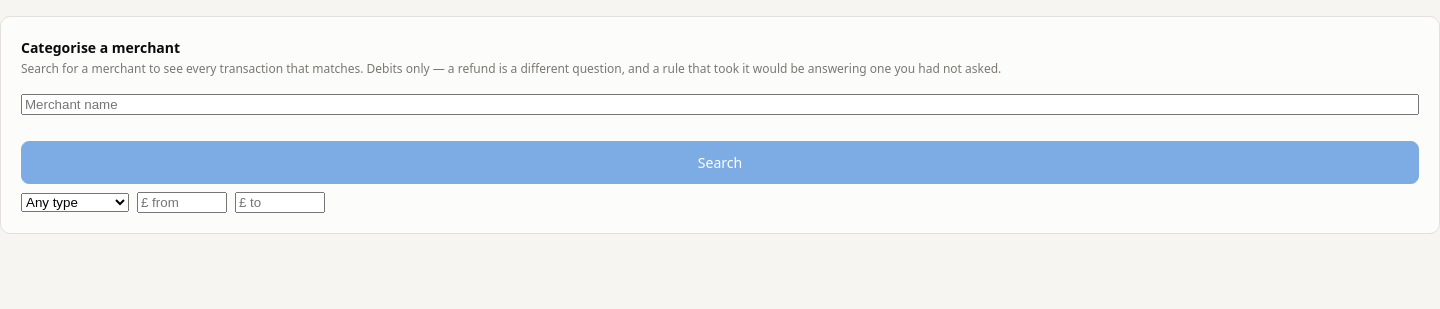
it: searching › reports a failure instead of leaving the last results on screen
Type "somemart" into the field labelled "Merchant" at point(720, 104), box [21,94,1419,115]
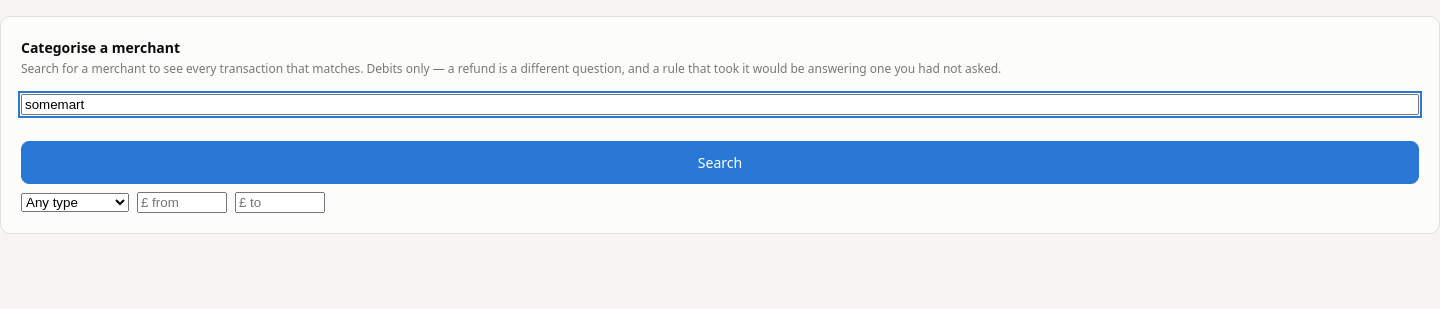
Click the button "Search" at point(720, 162), box [21,141,1419,184]
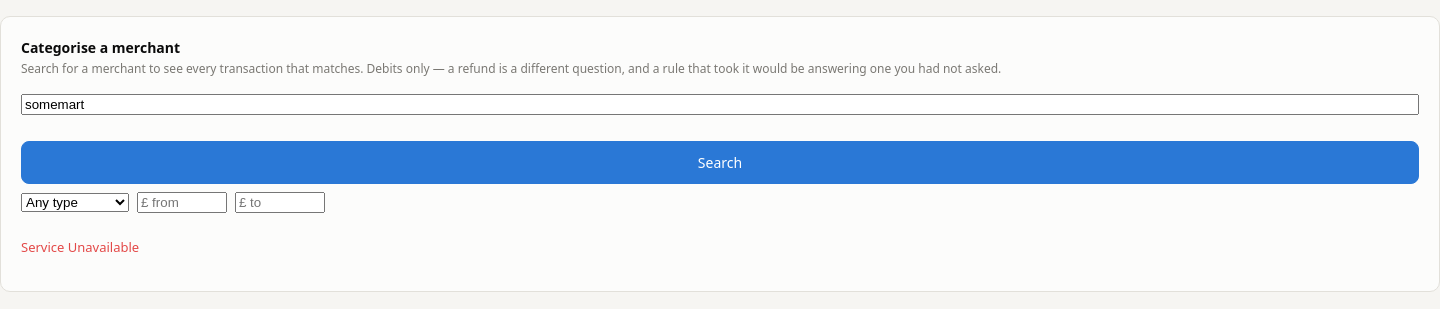
Check: the text "Service Unavailable" is shown, box [21,238,139,256]
